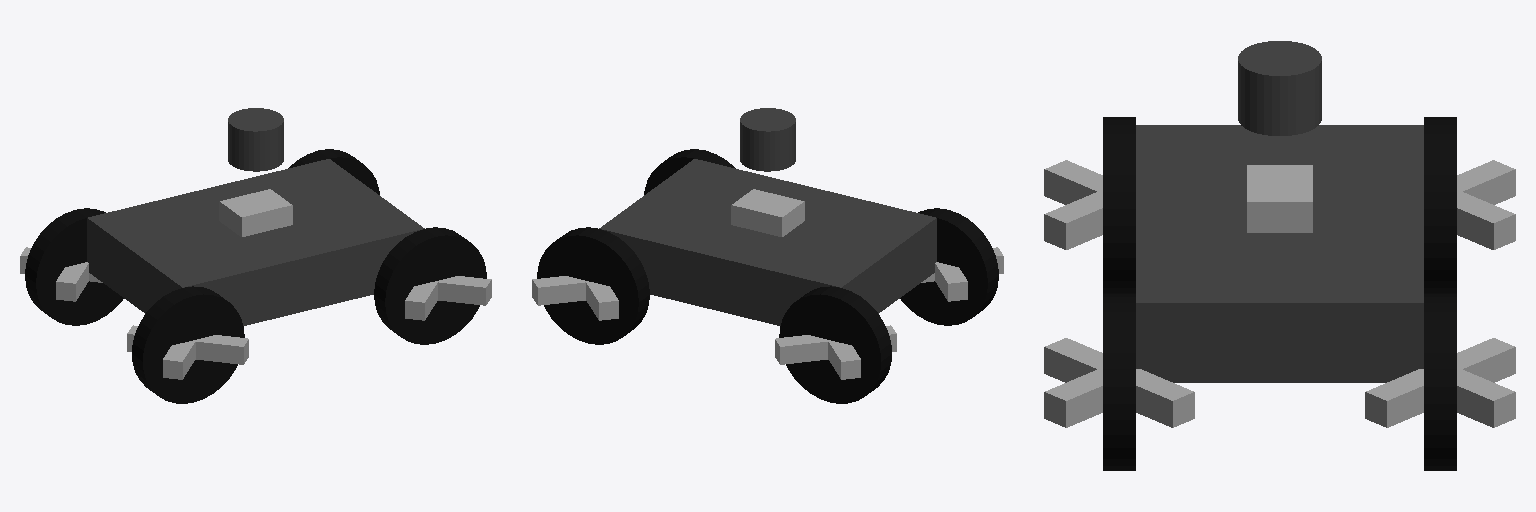
The robot description file, URDF, robot "ecza_rover":
<?xml version="1.0" ?>
<!-- =================================================================================== -->
<!-- |    This document was autogenerated by xacro from /ws/install/share/ecza_description/urdf/rover.urdf.xacro | -->
<!-- |    EDITING THIS FILE BY HAND IS NOT RECOMMENDED                                 | -->
<!-- =================================================================================== -->
<!--
  rover.urdf.xacro — URDF model for the ecza-robotu 4-wheel mecanum rover.

  Mecanum roller convention (top-down, X forward):
    FL  +45°  /    FR  -45°  \
    RL  -45°  \    RR  +45°  /

  Geometry pulled from config/rover_params.yaml:
    wheel_separation_width : 0.26 m   (left/right centre-to-centre)
    wheel_base             : 0.38 m   (front/rear axle centre-to-centre)
    wheel_radius           : 0.08 m   (measured physical wheel)

  Frame convention (ROS REP-103):
    base_link  — geometric centre of chassis, mid-height
    base_footprint — projection of base_link onto ground plane

  Wheel naming: fl fr rl rr
-->
<robot name="ecza_rover">
  <!-- kg, estimate -->
  <!-- ── Material colours ───────────────────────────────────────────────── -->
  <material name="chassis_grey">
    <color rgba="0.3 0.3 0.3 1.0"/>
  </material>
  <material name="wheel_black">
    <color rgba="0.1 0.1 0.1 1.0"/>
  </material>
  <material name="axle_silver">
    <color rgba="0.7 0.7 0.7 1.0"/>
  </material>
  <!-- ── base_footprint ─────────────────────────────────────────────────── -->
  <link name="base_footprint"/>
  <joint name="base_footprint_joint" type="fixed">
    <parent link="base_footprint"/>
    <child link="base_link"/>
    <origin rpy="0 0 0" xyz="0 0 0.08"/>
  </joint>
  <!-- ── base_link (chassis) ────────────────────────────────────────────── -->
  <link name="base_link">
    <visual>
      <origin rpy="0 0 0" xyz="0 0 0.04"/>
      <geometry>
        <box size="0.38 0.26 0.08"/>
      </geometry>
      <material name="chassis_grey"/>
    </visual>
    <collision>
      <origin rpy="0 0 0" xyz="0 0 0.04"/>
      <geometry>
        <box size="0.38 0.26 0.08"/>
      </geometry>
    </collision>
    <inertial>
      <mass value="3.0"/>
      <inertia ixx="0.018500000000000003" ixy="0" ixz="0" iyy="0.0377" iyz="0" izz="0.05300000000000001"/>
    </inertial>
  </link>
  <!-- ESP32 / electronics box on top of chassis -->
  <link name="electronics_link">
    <visual>
      <origin rpy="0 0 0" xyz="0 0 0"/>
      <geometry>
        <box size="0.08 0.06 0.03"/>
      </geometry>
      <material name="axle_silver"/>
    </visual>
    <collision>
      <origin xyz="0 0 0"/>
      <geometry>
        <box size="0.08 0.06 0.03"/>
      </geometry>
    </collision>
    <inertial>
      <mass value="0.05"/>
      <inertia ixx="1.875e-05" ixy="0" ixz="0" iyy="3.041666666666667e-05" iyz="0" izz="4.1666666666666665e-05"/>
    </inertial>
  </link>
  <joint name="electronics_joint" type="fixed">
    <parent link="base_link"/>
    <child link="electronics_link"/>
    <origin rpy="0 0 0" xyz="0 0 0.095"/>
  </joint>
  <link name="fl_wheel_link">
    <!-- Main wheel drum -->
    <visual>
      <origin rpy="1.5707963267948966 0 0" xyz="0 0 0"/>
      <geometry>
        <cylinder length="0.03" radius="0.08"/>
      </geometry>
      <material name="wheel_black"/>
    </visual>
    <!-- Roller 1 — large diagonal indicator at roller_angle -->
    <visual>
      <origin rpy="1.5707963267948966 0 0.7853981633974483" xyz="0 0 0"/>
      <geometry>
        <box size="0.16399999999999998 0.027 0.027999999999999997"/>
      </geometry>
      <material name="axle_silver"/>
    </visual>
    <!-- Roller 2 — opposite side -->
    <visual>
      <origin rpy="1.5707963267948966 0 2.356194490192345" xyz="0 0 0"/>
      <geometry>
        <box size="0.16399999999999998 0.027 0.027999999999999997"/>
      </geometry>
      <material name="axle_silver"/>
    </visual>
    <collision>
      <origin rpy="1.5707963267948966 0 0" xyz="0 0 0"/>
      <geometry>
        <cylinder length="0.03" radius="0.08"/>
      </geometry>
    </collision>
    <inertial>
      <mass value="0.15"/>
      <inertia ixx="0.00025125" ixy="0" ixz="0" iyy="0.00025125" iyz="0" izz="0.00048"/>
    </inertial>
  </link>
  <joint name="fl_wheel_joint" type="continuous">
    <parent link="base_link"/>
    <child link="fl_wheel_link"/>
    <origin rpy="0 0 0" xyz="0.19 0.14500000000000002 0"/>
    <axis xyz="0 1 0"/>
    <dynamics damping="0.01" friction="0.1"/>
  </joint>
  <link name="fr_wheel_link">
    <!-- Main wheel drum -->
    <visual>
      <origin rpy="1.5707963267948966 0 0" xyz="0 0 0"/>
      <geometry>
        <cylinder length="0.03" radius="0.08"/>
      </geometry>
      <material name="wheel_black"/>
    </visual>
    <!-- Roller 1 — large diagonal indicator at roller_angle -->
    <visual>
      <origin rpy="1.5707963267948966 0 -0.7853981633974483" xyz="0 0 0"/>
      <geometry>
        <box size="0.16399999999999998 0.027 0.027999999999999997"/>
      </geometry>
      <material name="axle_silver"/>
    </visual>
    <!-- Roller 2 — opposite side -->
    <visual>
      <origin rpy="1.5707963267948966 0 0.7853981633974483" xyz="0 0 0"/>
      <geometry>
        <box size="0.16399999999999998 0.027 0.027999999999999997"/>
      </geometry>
      <material name="axle_silver"/>
    </visual>
    <collision>
      <origin rpy="1.5707963267948966 0 0" xyz="0 0 0"/>
      <geometry>
        <cylinder length="0.03" radius="0.08"/>
      </geometry>
    </collision>
    <inertial>
      <mass value="0.15"/>
      <inertia ixx="0.00025125" ixy="0" ixz="0" iyy="0.00025125" iyz="0" izz="0.00048"/>
    </inertial>
  </link>
  <joint name="fr_wheel_joint" type="continuous">
    <parent link="base_link"/>
    <child link="fr_wheel_link"/>
    <origin rpy="0 0 0" xyz="0.19 -0.14500000000000002 0"/>
    <axis xyz="0 -1 0"/>
    <dynamics damping="0.01" friction="0.1"/>
  </joint>
  <link name="rl_wheel_link">
    <!-- Main wheel drum -->
    <visual>
      <origin rpy="1.5707963267948966 0 0" xyz="0 0 0"/>
      <geometry>
        <cylinder length="0.03" radius="0.08"/>
      </geometry>
      <material name="wheel_black"/>
    </visual>
    <!-- Roller 1 — large diagonal indicator at roller_angle -->
    <visual>
      <origin rpy="1.5707963267948966 0 -0.7853981633974483" xyz="0 0 0"/>
      <geometry>
        <box size="0.16399999999999998 0.027 0.027999999999999997"/>
      </geometry>
      <material name="axle_silver"/>
    </visual>
    <!-- Roller 2 — opposite side -->
    <visual>
      <origin rpy="1.5707963267948966 0 0.7853981633974483" xyz="0 0 0"/>
      <geometry>
        <box size="0.16399999999999998 0.027 0.027999999999999997"/>
      </geometry>
      <material name="axle_silver"/>
    </visual>
    <collision>
      <origin rpy="1.5707963267948966 0 0" xyz="0 0 0"/>
      <geometry>
        <cylinder length="0.03" radius="0.08"/>
      </geometry>
    </collision>
    <inertial>
      <mass value="0.15"/>
      <inertia ixx="0.00025125" ixy="0" ixz="0" iyy="0.00025125" iyz="0" izz="0.00048"/>
    </inertial>
  </link>
  <joint name="rl_wheel_joint" type="continuous">
    <parent link="base_link"/>
    <child link="rl_wheel_link"/>
    <origin rpy="0 0 0" xyz="-0.19 0.14500000000000002 0"/>
    <axis xyz="0 1 0"/>
    <dynamics damping="0.01" friction="0.1"/>
  </joint>
  <link name="rr_wheel_link">
    <!-- Main wheel drum -->
    <visual>
      <origin rpy="1.5707963267948966 0 0" xyz="0 0 0"/>
      <geometry>
        <cylinder length="0.03" radius="0.08"/>
      </geometry>
      <material name="wheel_black"/>
    </visual>
    <!-- Roller 1 — large diagonal indicator at roller_angle -->
    <visual>
      <origin rpy="1.5707963267948966 0 0.7853981633974483" xyz="0 0 0"/>
      <geometry>
        <box size="0.16399999999999998 0.027 0.027999999999999997"/>
      </geometry>
      <material name="axle_silver"/>
    </visual>
    <!-- Roller 2 — opposite side -->
    <visual>
      <origin rpy="1.5707963267948966 0 2.356194490192345" xyz="0 0 0"/>
      <geometry>
        <box size="0.16399999999999998 0.027 0.027999999999999997"/>
      </geometry>
      <material name="axle_silver"/>
    </visual>
    <collision>
      <origin rpy="1.5707963267948966 0 0" xyz="0 0 0"/>
      <geometry>
        <cylinder length="0.03" radius="0.08"/>
      </geometry>
    </collision>
    <inertial>
      <mass value="0.15"/>
      <inertia ixx="0.00025125" ixy="0" ixz="0" iyy="0.00025125" iyz="0" izz="0.00048"/>
    </inertial>
  </link>
  <joint name="rr_wheel_joint" type="continuous">
    <parent link="base_link"/>
    <child link="rr_wheel_link"/>
    <origin rpy="0 0 0" xyz="-0.19 -0.14500000000000002 0"/>
    <axis xyz="0 -1 0"/>
    <dynamics damping="0.01" friction="0.1"/>
  </joint>
  <!-- ── IMU frame (centred on chassis top) ─────────────────────────────── -->
  <link name="imu_link"/>
  <joint name="imu_joint" type="fixed">
    <parent link="base_link"/>
    <child link="imu_link"/>
    <origin rpy="0 0 0" xyz="0 0 0.08"/>
  </joint>
  <!-- ── RPLidar A2M12 ─────────────────────────────────────────────────── -->
  <!--
    Mounted on top of the chassis, centred, facing forward.
    Height: chassis top (chassis_z + ch2) + 30 mm standoff + ~15 mm sensor half-height.
    The laser plane is horizontal at the top of the sensor body.
    Frame: laser_frame  (REP-105 sensor frame, Z up, X forward)
  -->
  <link name="laser_frame">
    <visual>
      <geometry>
        <cylinder length="0.060" radius="0.038"/>
      </geometry>
      <material name="chassis_grey"/>
    </visual>
    <collision>
      <geometry>
        <cylinder length="0.060" radius="0.038"/>
      </geometry>
    </collision>
    <inertial>
      <mass value="0.17"/>
      <inertia ixx="0.00011237" ixy="0" ixz="0" iyy="0.00011237" iyz="0" izz="0.00012274"/>
    </inertial>
  </link>
  <joint name="laser_joint" type="fixed">
    <parent link="base_link"/>
    <child link="laser_frame"/>
    <!--
      x=0 : centred front-back
      y=0 : centred left-right
      z   : top of chassis + 15 mm standoff + 30 mm to laser plane
    -->
    <origin rpy="0 0 3.14159" xyz="0.0 0.0 0.20500000000000002"/>
  </joint>
  <!-- ── ros2_control — topic_based hardware interface ─────────────────── -->
  <!--
    topic_based_ros2_control bridges joint velocity commands and states via
    ROS topics using sensor_msgs/JointState.

    The wheel_bridge node (hardware.launch.py) adapts between these JointState
    topics and the ESP32 Float32MultiArray topics:

    Command flow:
      mecanum_drive_controller
        → /wheel_velocities_cmd  (JointState, topic_based publishes)
        → wheel_bridge           (converts to Float32MultiArray)
        → /wheel_velocities_cmd_f32 (Float32MultiArray → ESP32)

    State flow:
      ESP32 → /wheel_velocities  (Float32MultiArray)
        → wheel_bridge           (converts to JointState)
        → /wheel_velocities_js   (JointState → topic_based reads)

    Joint order must match firmware velocity_subscriber.c:
      0=fl  1=fr  2=rl  3=rr
  -->
  <ros2_control name="ecza_rover_hardware" type="system">
    <hardware>
      <plugin>topic_based_ros2_control/TopicBasedSystem</plugin>
      <param name="joint_commands_topic">/wheel_velocities_cmd</param>
      <param name="joint_states_topic">/wheel_velocities_js</param>
      <!-- Set to -1 so write() always publishes: the default threshold check
           compares POSITION interface diffs, but we only use VELOCITY.
           Since both position arrays stay at 0.0, diff would always be 0,
           causing write() to skip publishing. A negative threshold disables
           the guard entirely. -->
      <param name="trigger_joint_command_threshold">-1.0</param>
    </hardware>
    <joint name="fl_wheel_joint">
      <command_interface name="velocity"/>
      <state_interface name="velocity"/>
      <state_interface name="position"/>
    </joint>
    <joint name="fr_wheel_joint">
      <command_interface name="velocity"/>
      <state_interface name="velocity"/>
      <state_interface name="position"/>
    </joint>
    <joint name="rl_wheel_joint">
      <command_interface name="velocity"/>
      <state_interface name="velocity"/>
      <state_interface name="position"/>
    </joint>
    <joint name="rr_wheel_joint">
      <command_interface name="velocity"/>
      <state_interface name="velocity"/>
      <state_interface name="position"/>
    </joint>
  </ros2_control>
</robot>

--- Facts derived from the render (not from the file) ---
Views: 3 orthographic renders of the robot side by side, from view 1: azimuth 30°, elevation 25°; view 2: azimuth 150°, elevation 25°; view 3: azimuth 270°, elevation 25°.
Robot: ecza_rover — 9 links, 8 joints (4 continuous, 4 fixed); root link base_footprint; default pose: every joint at zero.
Links seen in each view (by area): view 1: base_link, rr_wheel_link, fr_wheel_link, rl_wheel_link, laser_frame, electronics_link, fl_wheel_link; view 2: base_link, rl_wheel_link, fl_wheel_link, rr_wheel_link, laser_frame, electronics_link, fr_wheel_link; view 3: base_link, fl_wheel_link, fr_wheel_link, rl_wheel_link, rr_wheel_link, laser_frame, electronics_link.
Boxes of the visible links, x1=… form: base_link: x1=87, y1=159, x2=424, y2=325; rr_wheel_link: x1=127, y1=286, x2=248, y2=403; fr_wheel_link: x1=374, y1=227, x2=491, y2=344; rl_wheel_link: x1=20, y1=208, x2=123, y2=325; laser_frame: x1=228, y1=108, x2=283, y2=171; electronics_link: x1=219, y1=189, x2=292, y2=236; fl_wheel_link: x1=288, y1=149, x2=379, y2=194; base_link: x1=599, y1=159, x2=936, y2=325; rl_wheel_link: x1=775, y1=286, x2=896, y2=403; fl_wheel_link: x1=532, y1=227, x2=649, y2=344; rr_wheel_link: x1=900, y1=208, x2=1003, y2=325; laser_frame: x1=740, y1=108, x2=795, y2=171; electronics_link: x1=731, y1=189, x2=804, y2=236; fr_wheel_link: x1=644, y1=149, x2=735, y2=194; base_link: x1=1136, y1=125, x2=1423, y2=382; fl_wheel_link: x1=1365, y1=294, x2=1515, y2=470; fr_wheel_link: x1=1044, y1=294, x2=1194, y2=470; rl_wheel_link: x1=1424, y1=117, x2=1515, y2=293; rr_wheel_link: x1=1044, y1=117, x2=1135, y2=293; laser_frame: x1=1238, y1=41, x2=1321, y2=135; electronics_link: x1=1247, y1=165, x2=1312, y2=232.
Size in the robot's own frame: 0.54 by 0.4258 by 0.315 metres.
Geometry: primitives only (box / cylinder / sphere), no mesh files.
